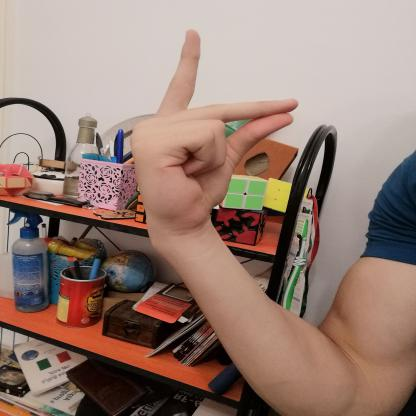TAA: (122, 21, 309, 241)
